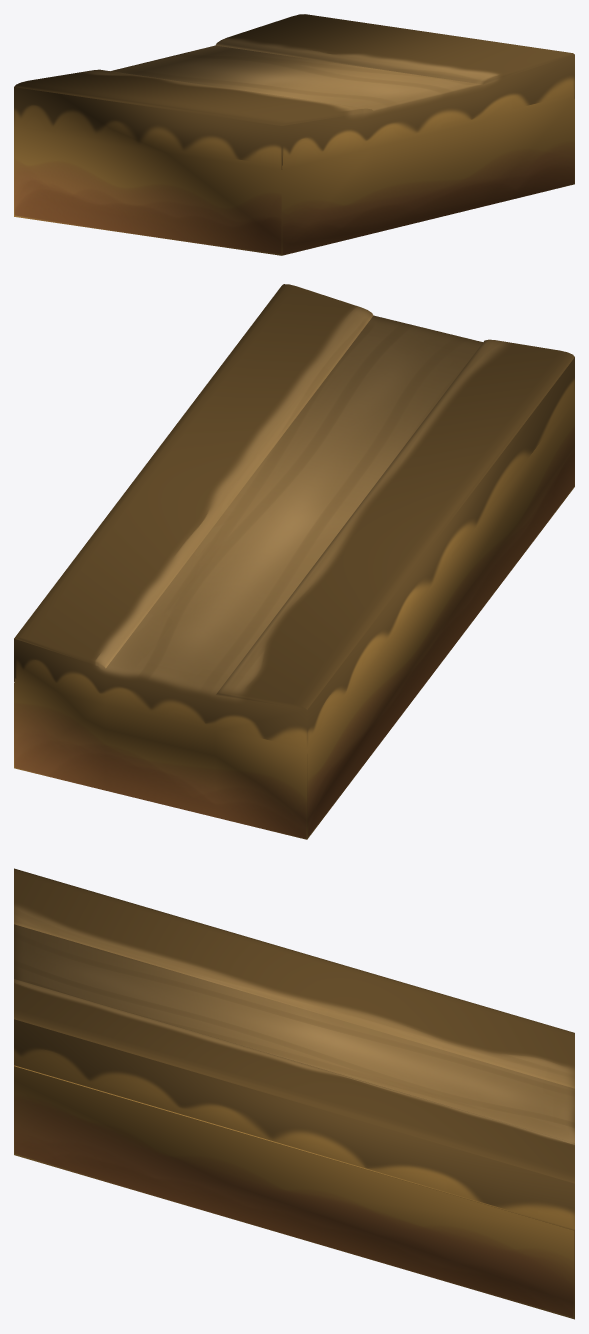
File: plat naik turun.fbx
3 renders of one model, top to bottom at view 1: azimuth 30°, elevation 25°; view 2: azimuth 150°, elevation 25°; view 3: azimuth 270°, elevation 25°, orthographic. The views are drawn at different scales.
Parts seen in each view (by area): view 1: Cube.013; view 2: Cube.013; view 3: Cube.013.
Boxes of the visible parts, x1,y1,x2,y2 form: Cube.013: (14,14,574,255); Cube.013: (14,284,574,839); Cube.013: (14,868,574,1319).
Size of the model in its own units: 1229 by 1161 by 1945.
Materials: 1 (1 with a texture image).
